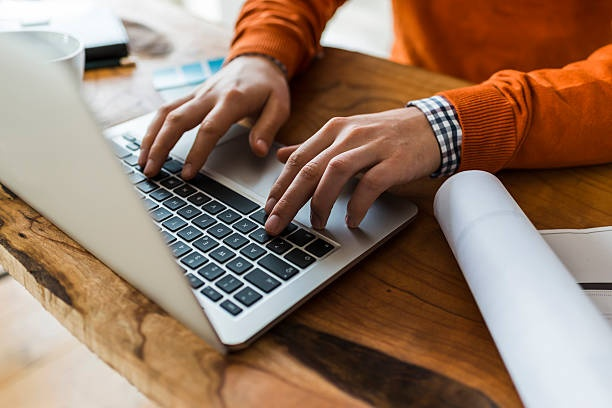keyboard: (96, 117, 331, 323)
